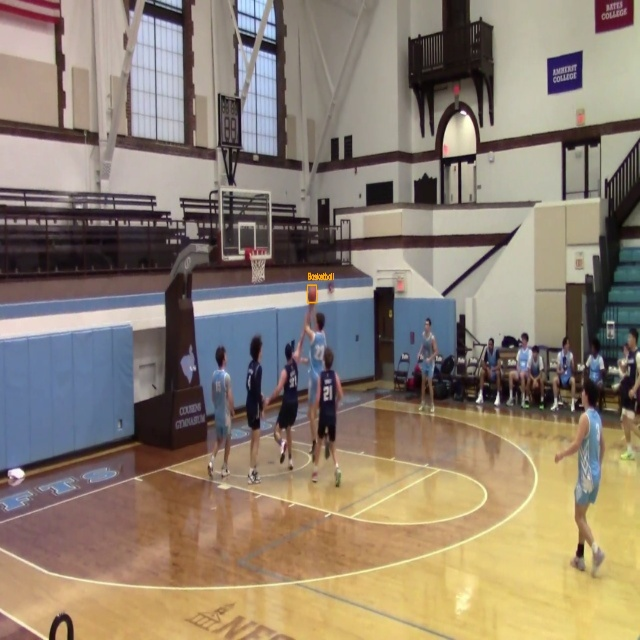Basketball: (307, 285, 317, 302)
